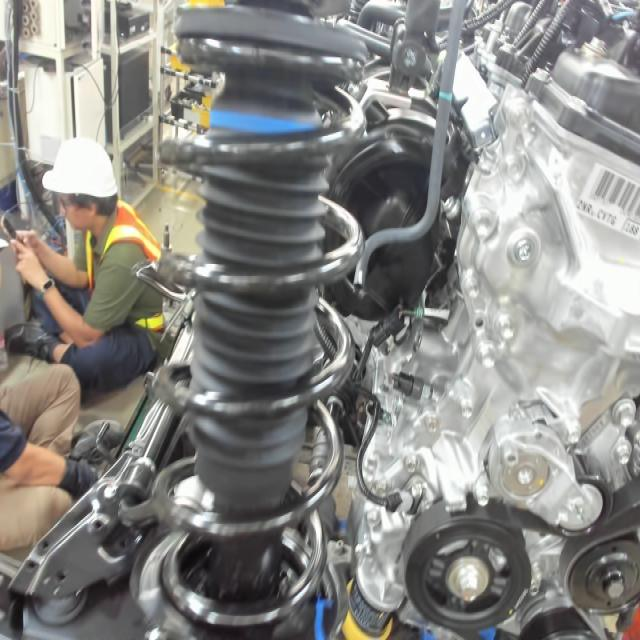Bumper-BR: (205, 106, 322, 145)
Engine Assy-188: (620, 216, 640, 240)
Hose Canister-HJ: (437, 87, 455, 106)
